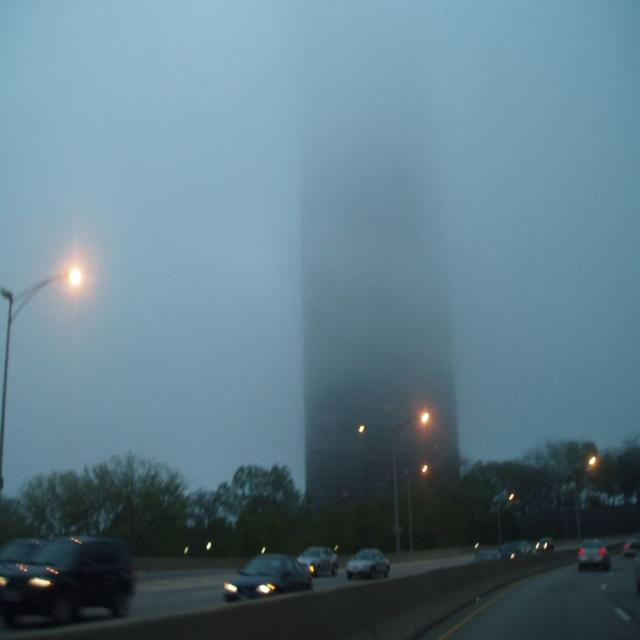car: (347, 548, 392, 579), (577, 541, 609, 567)
